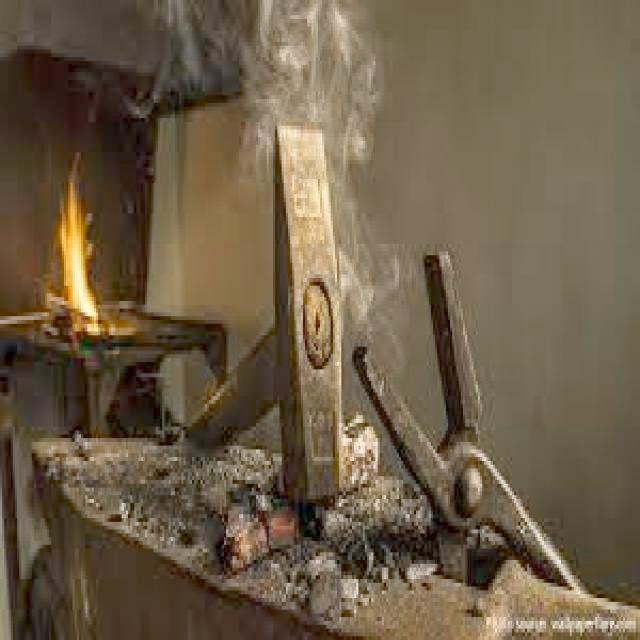hammer: (177, 107, 348, 530)
